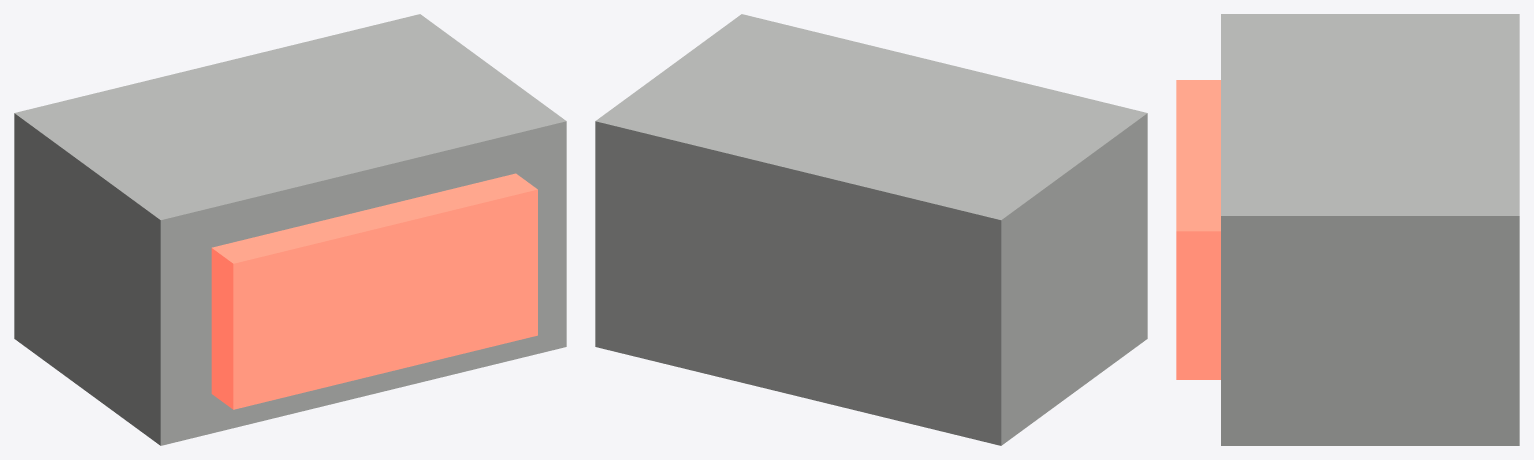
Rendered from lum_0586c54b27.gltf.
The picture shows the model from 3 angles, left to right: view 1: azimuth 30°, elevation 25°; view 2: azimuth 150°, elevation 25°; view 3: azimuth 270°, elevation 25°; orthographic projection.
Parts seen in each view (by area): view 1: lum_0586c54b27; view 2: lum_0586c54b27; view 3: lum_0586c54b27.
Boxes of the visible parts, x1=… form: lum_0586c54b27: x1=14, y1=14, x2=566, y2=445; lum_0586c54b27: x1=595, y1=14, x2=1147, y2=445; lum_0586c54b27: x1=1176, y1=14, x2=1519, y2=445.
Bounding box in the file's own units: 0.32 × 0.17 × 0.23.
